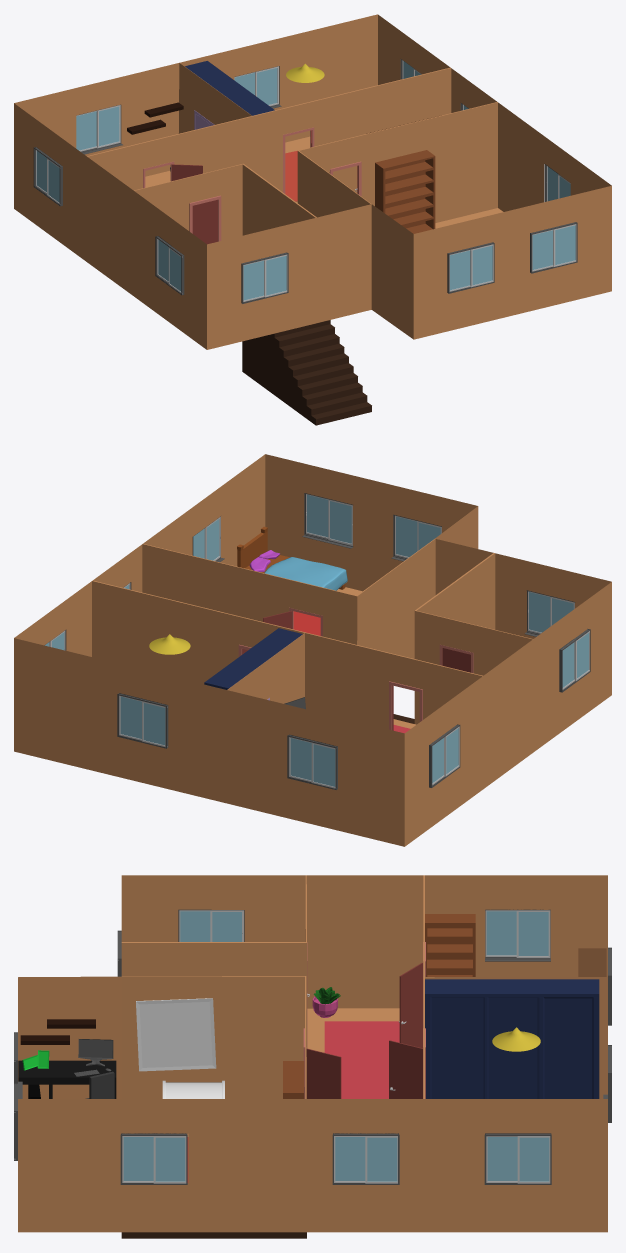
The model's file is house (2).fbx.
3 renders of one model, top to bottom at view 1: azimuth 30°, elevation 25°; view 2: azimuth 150°, elevation 25°; view 3: azimuth 270°, elevation 25°, orthographic. The views are drawn at different scales.
Visible parts, largest first — view 1: 1Walls, Cube, K_library, M_waredrobe, Door.002, Window.R.005, Window.L.014, Window.L.002, Window.L.003, Window.R.002, Window.R.003, Window.R.014 (+4 smaller); view 2: 1Walls, M_waredrobe, K_blankets, Window.R.002, Window.L.005, Window.L.012, Window.R.012, Window.L.002, Window.R.005, K_bed, Window.L.003, Window.L.014 (+6 smaller); view 3: 1Walls, M_waredrobe, K_whiteboard, C_carpet, O_library, K_desk, Door.009, Door.0, Door.007, Window.R.004, Window.L, Window.L.001 (+19 smaller).
Part boxes in pixels (x1,y1,x2,y2): 1Walls: [14, 14, 611, 349]; Cube: [242, 320, 371, 425]; K_library: [375, 150, 435, 233]; M_waredrobe: [185, 61, 274, 115]; Door.002: [192, 199, 217, 244]; Window.R.005: [97, 105, 120, 148]; Window.L.014: [264, 254, 287, 297]; Window.L.002: [553, 224, 576, 266]; Window.L.003: [470, 244, 493, 287]; Window.R.002: [532, 229, 553, 271]; Window.R.003: [449, 250, 470, 291]; Window.R.014: [243, 260, 264, 301]; 1Walls: [14, 454, 611, 846]; M_waredrobe: [204, 628, 302, 689]; K_blankets: [264, 557, 347, 590]; Window.R.002: [328, 499, 352, 545]; Window.L.005: [311, 742, 335, 788]; Window.L.012: [142, 701, 167, 747]; Window.R.012: [119, 695, 141, 740]; Window.L.002: [306, 494, 328, 538]; Window.R.005: [289, 737, 311, 781]; K_bed: [237, 526, 345, 589]; Window.L.003: [395, 515, 417, 558]; Window.L.014: [528, 591, 550, 633]; 1Walls: [18, 875, 607, 1232]; M_waredrobe: [425, 979, 599, 1098]; K_whiteboard: [136, 998, 216, 1071]; C_carpet: [324, 1021, 399, 1098]; O_library: [425, 914, 475, 976]; K_desk: [18, 1060, 116, 1098]; Door.009: [389, 1040, 422, 1098]; Door.0: [399, 963, 422, 1048]; Door.007: [306, 1048, 341, 1098]; Window.R.004: [516, 910, 550, 957]; Window.L: [517, 1136, 550, 1183]; Window.L.001: [153, 1136, 186, 1183].
Bounding box in the file's own units: 1395 × 764 × 1552.
